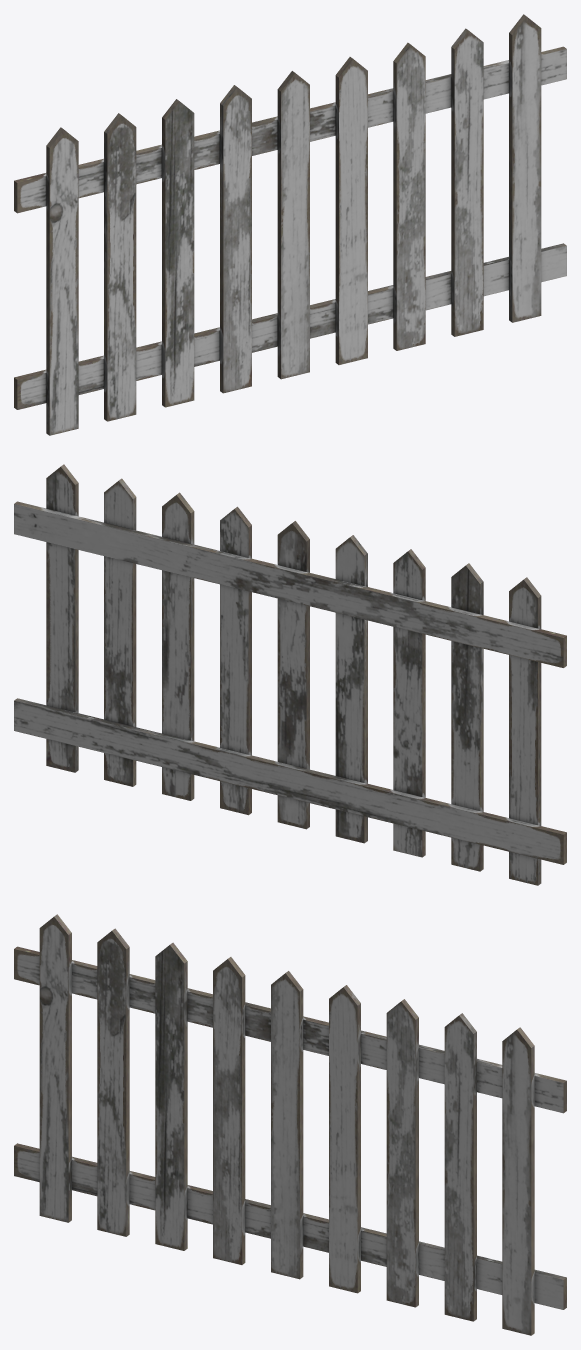
The model's file is fence_panel.glb.
3 renders of one model, top to bottom at view 1: azimuth 30°, elevation 25°; view 2: azimuth 150°, elevation 25°; view 3: azimuth 330°, elevation 25°, orthographic.
Parts seen in each view (by area): view 1: fence_panel; view 2: fence_panel; view 3: fence_panel.
Part boxes in pixels (bbox=[...]): fence_panel: bbox=[14, 14, 566, 435]; fence_panel: bbox=[14, 464, 566, 885]; fence_panel: bbox=[14, 914, 566, 1335].
Size of the model in its own units: 2.5 by 1.32 by 0.0526.
1 material, 1 textured.
